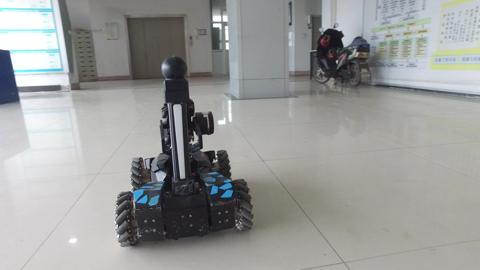chariot: (96, 51, 272, 249)
